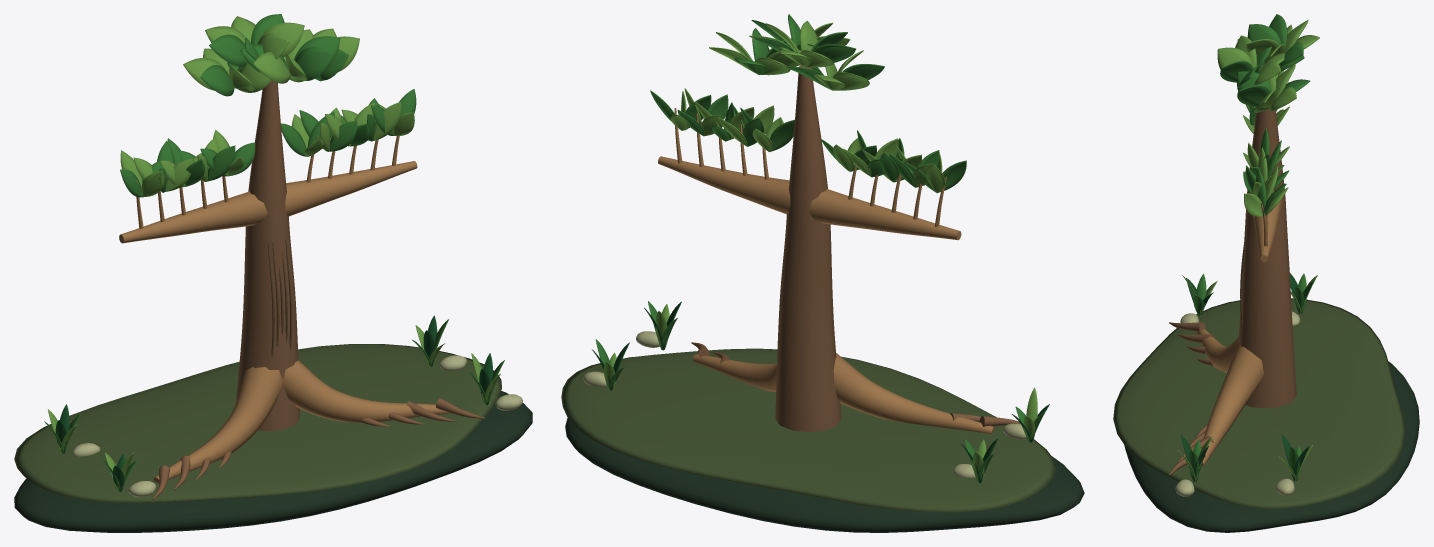
File: tree.glb
The picture shows the model from 3 angles, left to right: view 1: azimuth 30°, elevation 25°; view 2: azimuth 150°, elevation 25°; view 3: azimuth 270°, elevation 25°; orthographic projection. The views are drawn at different scales.
Parts seen in each view (by area): view 1: tree_surface_01, tree_surface_03, tree_surface_00, tree_surface_02, tree_surface_05, tree_surface_04, tree_surface_07, tree_surface_08, tree_surface_06; view 2: tree_surface_01, tree_surface_02, tree_surface_00, tree_surface_03, tree_surface_05, tree_surface_04, tree_surface_08, tree_surface_07; view 3: tree_surface_01, tree_surface_02, tree_surface_00, tree_surface_04, tree_surface_05, tree_surface_03, tree_surface_07, tree_surface_08.
Boxes of the visible parts, x1,y1,x2,y2 form: tree_surface_01: [14, 344, 501, 503]; tree_surface_03: [119, 136, 449, 483]; tree_surface_00: [14, 391, 532, 532]; tree_surface_02: [152, 80, 485, 499]; tree_surface_05: [48, 16, 500, 492]; tree_surface_04: [44, 14, 504, 492]; tree_surface_07: [55, 315, 493, 491]; tree_surface_08: [72, 355, 522, 497]; tree_surface_06: [268, 239, 292, 356]; tree_surface_01: [561, 348, 1055, 512]; tree_surface_02: [691, 65, 1020, 432]; tree_surface_00: [565, 357, 1084, 532]; tree_surface_03: [658, 108, 993, 433]; tree_surface_05: [603, 21, 1037, 482]; tree_surface_04: [595, 14, 1045, 482]; tree_surface_08: [583, 331, 1026, 477]; tree_surface_07: [592, 301, 1049, 483]; tree_surface_01: [1113, 298, 1405, 508]; tree_surface_02: [1169, 108, 1296, 475]; tree_surface_00: [1124, 361, 1419, 532]; tree_surface_04: [1188, 14, 1310, 482]; tree_surface_05: [1178, 20, 1319, 482]; tree_surface_03: [1196, 190, 1282, 466]; tree_surface_07: [1181, 272, 1314, 482]; tree_surface_08: [1175, 311, 1300, 496].
Size of the model in its own units: 4.35 by 3.72 by 2.5.
